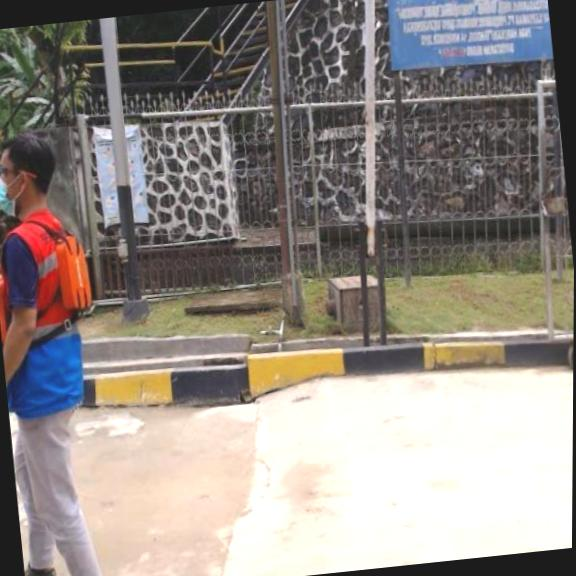safety_vest: (0, 230, 99, 370)
